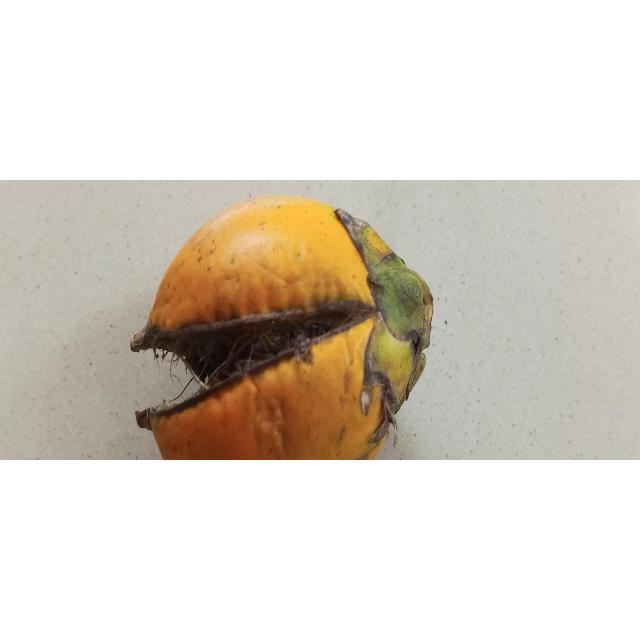damaged: (130, 196, 435, 461)
